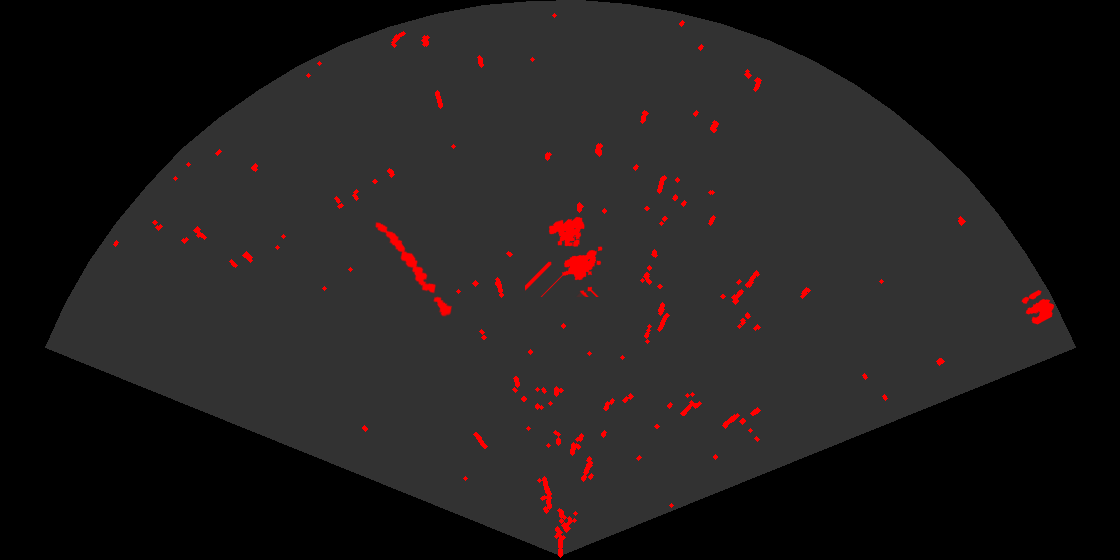ball: (1020, 288, 1056, 326)
cage: (525, 215, 604, 297)
chain: (374, 220, 454, 318)
